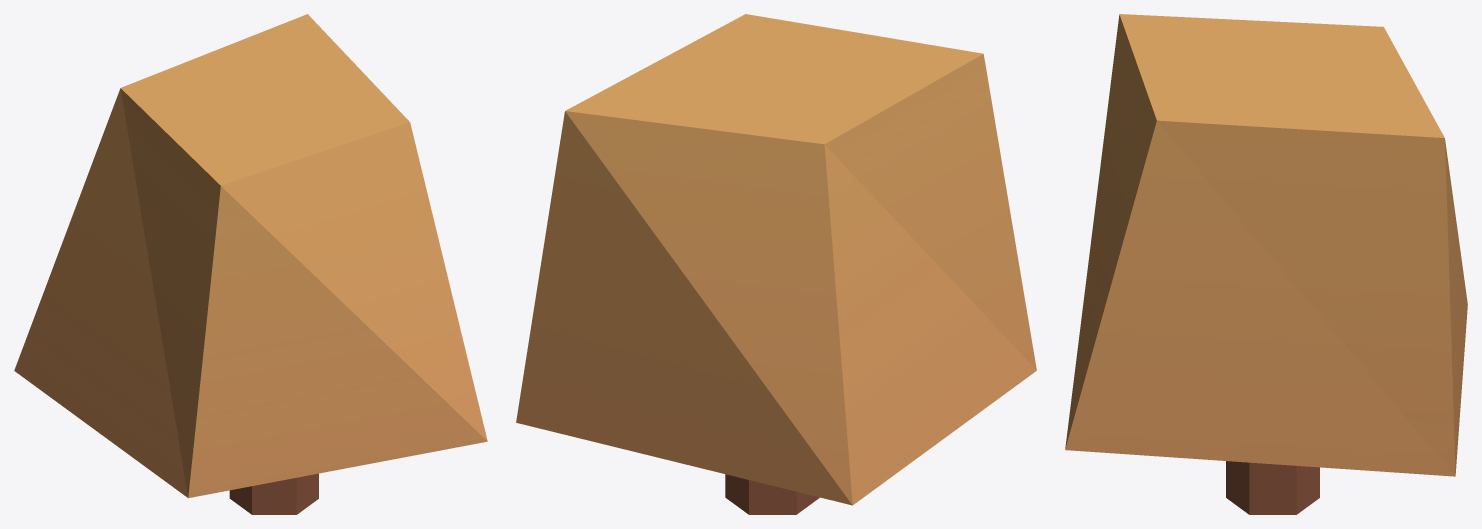
Rendered from Bush_11_gradient_yellow.fbx.
3 renders of one model, left to right at view 1: azimuth 30°, elevation 25°; view 2: azimuth 150°, elevation 25°; view 3: azimuth 270°, elevation 25°, orthographic. The views are drawn at different scales.
Visible parts, largest first — view 1: Bush_11_gradient_yellow; view 2: Bush_11_gradient_yellow; view 3: Bush_11_gradient_yellow.
Part boxes in pixels (left/top/right/bottom): Bush_11_gradient_yellow: left=14, top=14, right=487, bottom=514; Bush_11_gradient_yellow: left=516, top=14, right=1036, bottom=514; Bush_11_gradient_yellow: left=1065, top=14, right=1467, bottom=514.
Bounding box in the file's own units: 50.88 × 59.59 × 51.95.
